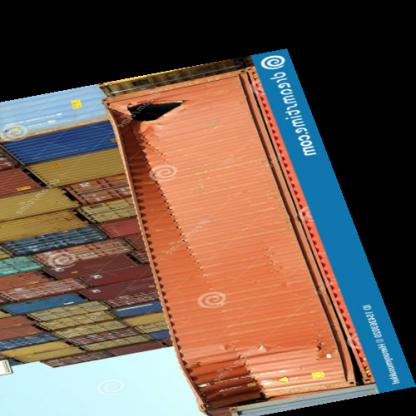Damage: (194, 350, 264, 416), (116, 86, 182, 131)
